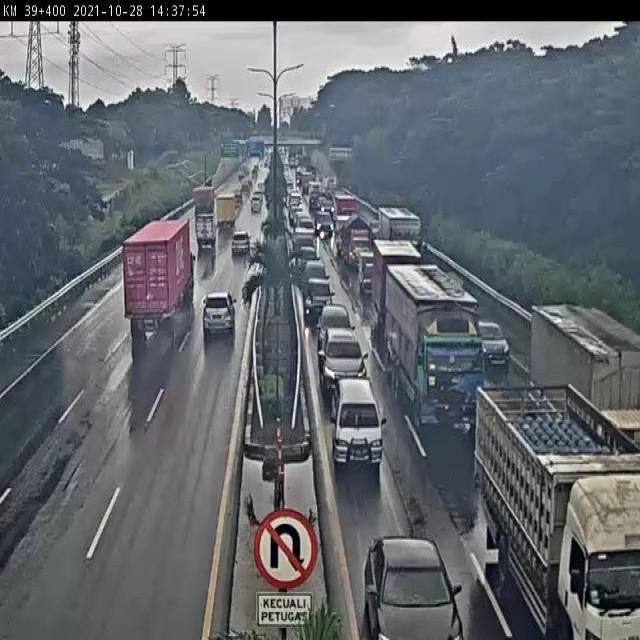car: (362, 508, 471, 640), (330, 375, 391, 468), (319, 324, 374, 381), (473, 306, 508, 370), (203, 283, 239, 344), (304, 275, 350, 312), (322, 300, 359, 327), (228, 224, 251, 265)
truck: (469, 355, 640, 636), (529, 297, 640, 480), (380, 265, 479, 440), (114, 211, 199, 363), (213, 191, 236, 239), (193, 211, 214, 257), (194, 183, 214, 221)
